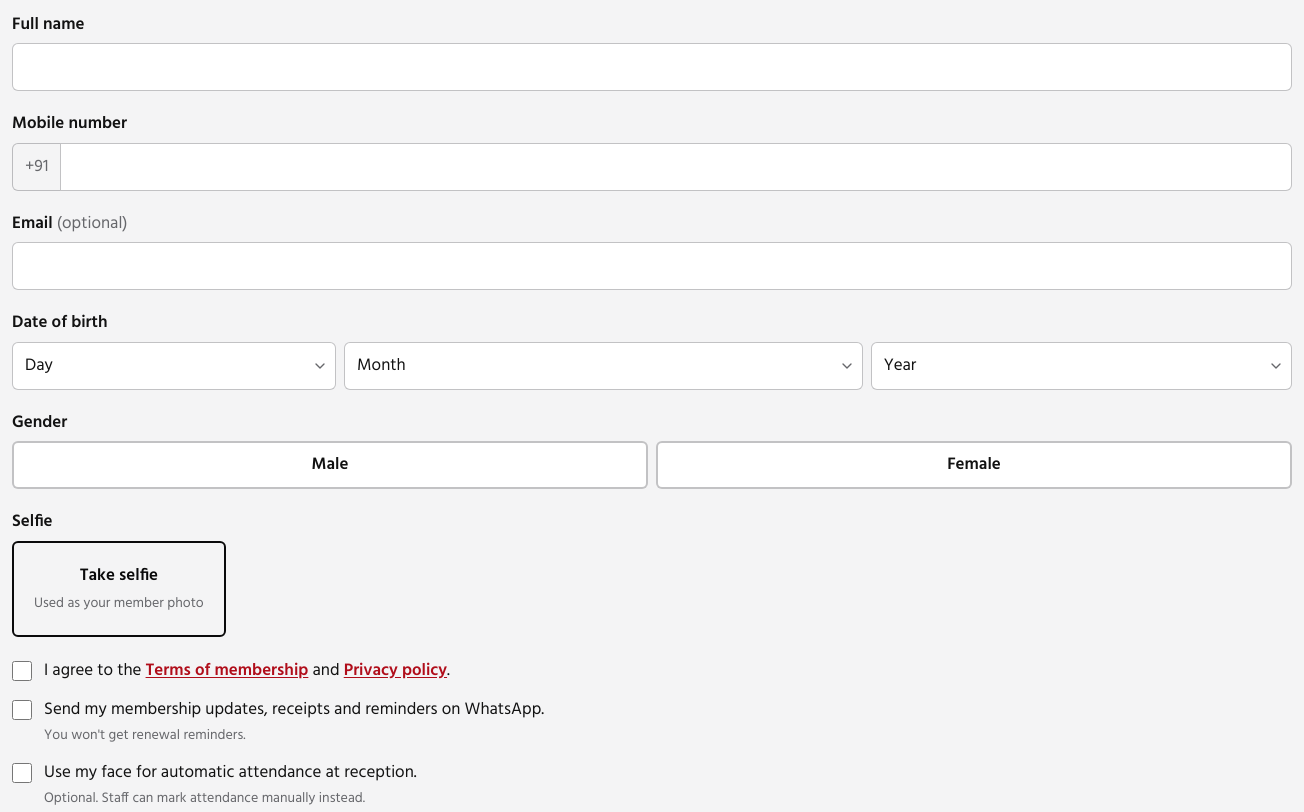
Test: DetailsStep › leaves face attendance off by default and unavailable to a minor, with the guardian note
Step 1. Click the checkbox labelled "automatic attendance" → (22, 773), box 12,763 -> 32,783
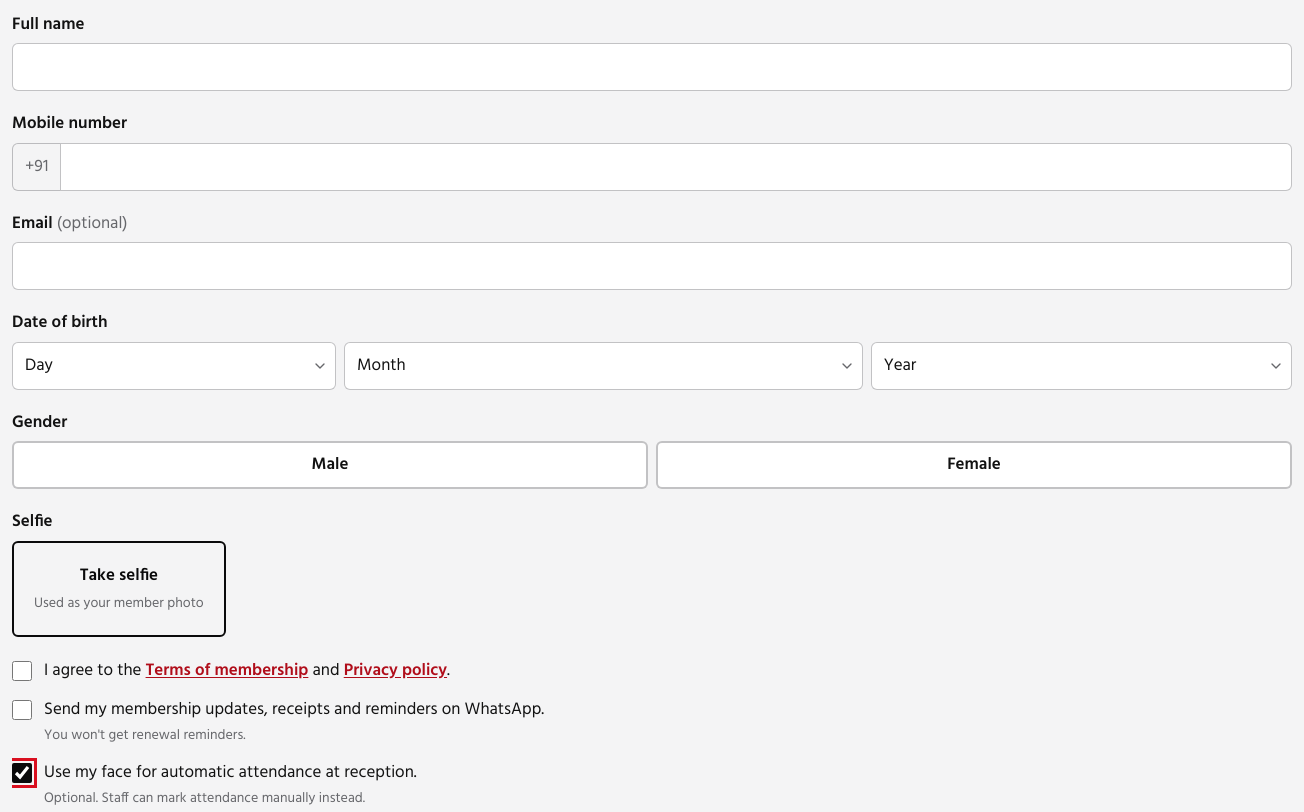
Expected: the checkbox labelled "automatic attendance" is checked, 12,763 -> 32,783
Step 2. Select "1" in the dropdown named "Day" → (174, 366), box 12,342 -> 336,390
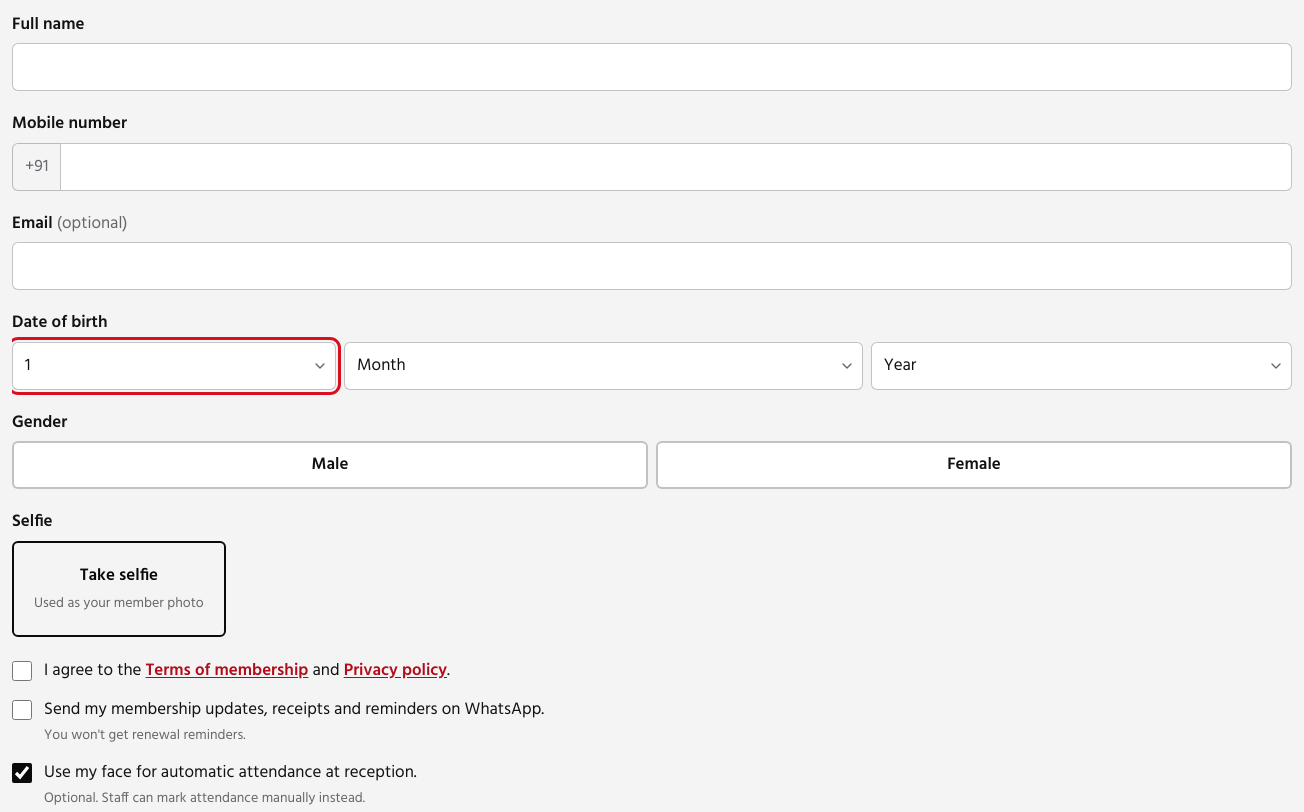
Step 3. Select "January" in the dropdown named "Month" → (603, 366), box 344,342 -> 863,390
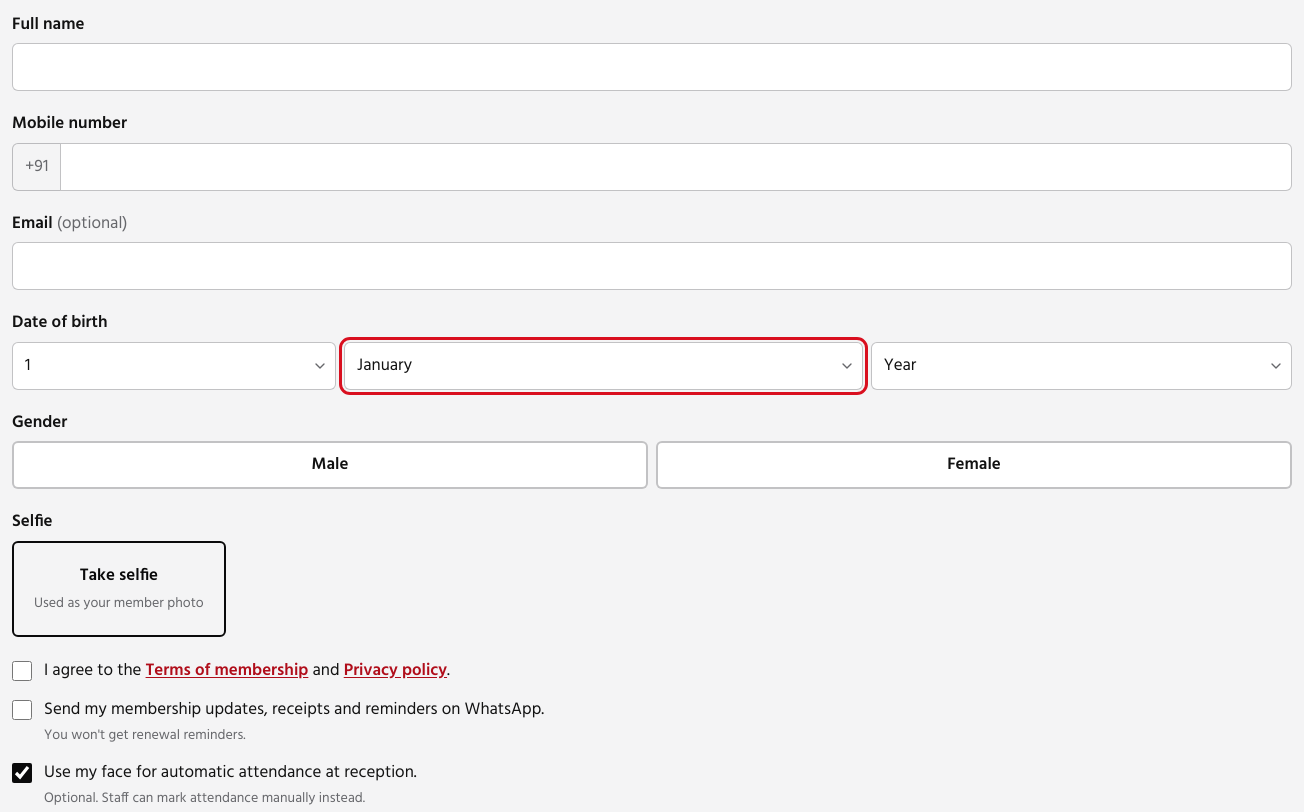
Step 4. Select "2009" in the dropdown named "Year" → (1081, 366), box 871,342 -> 1292,390
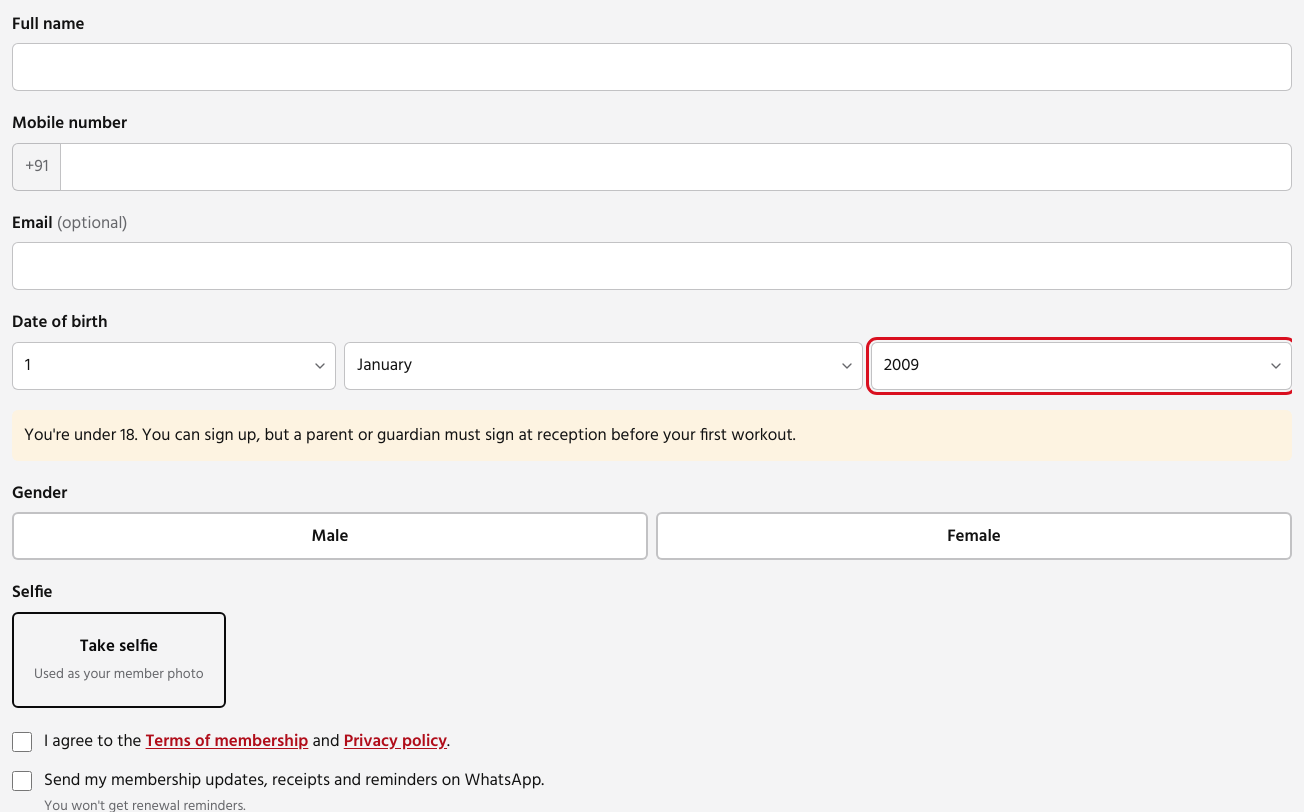
Expected: the text "You're under 18" is shown, 24,422 -> 796,449
